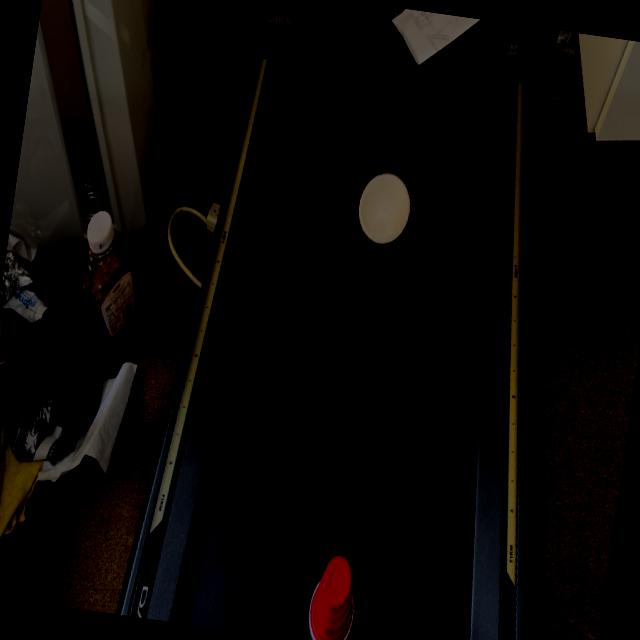Recycle: (350, 158, 420, 255), (301, 544, 365, 640)
